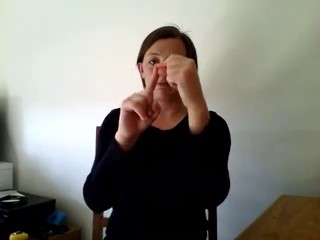P: (111, 52, 203, 138)
